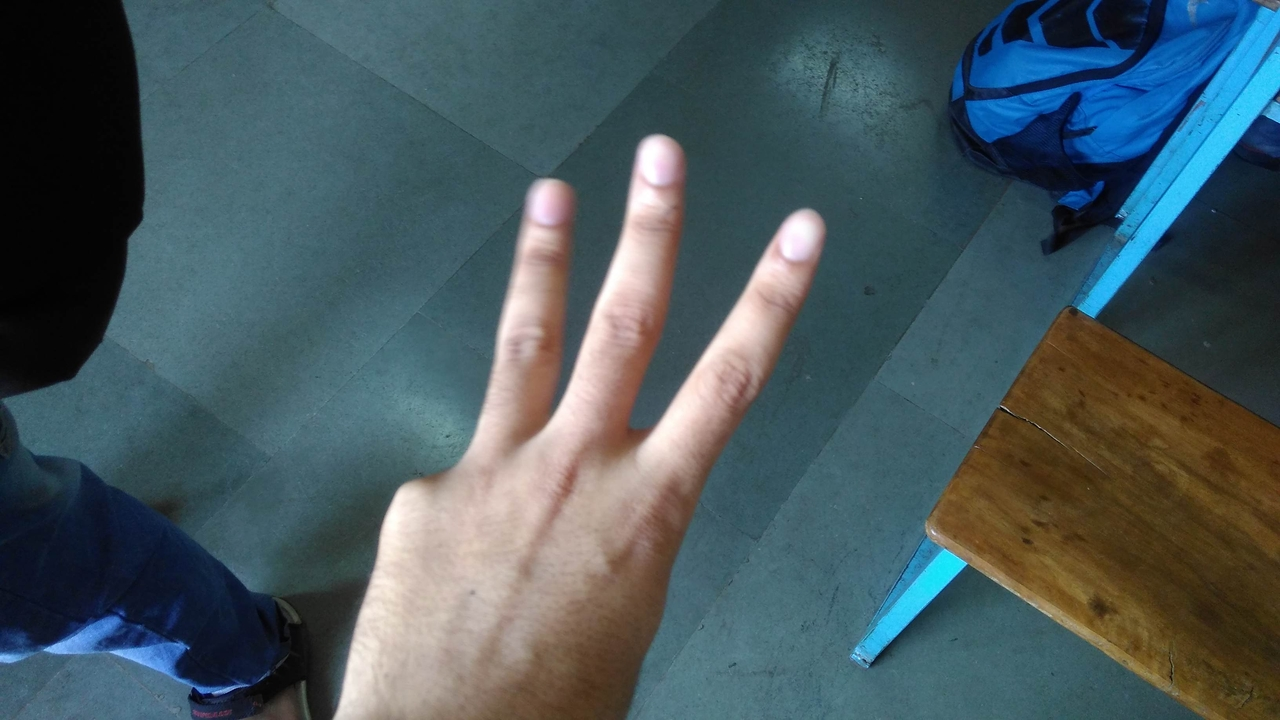fingertip: (766, 198, 836, 264), (622, 128, 690, 192), (518, 170, 580, 232)
